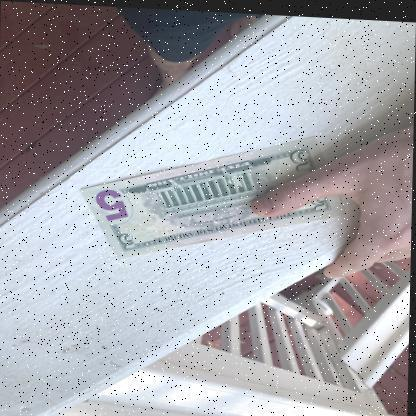dollar_back: (79, 131, 346, 257)
